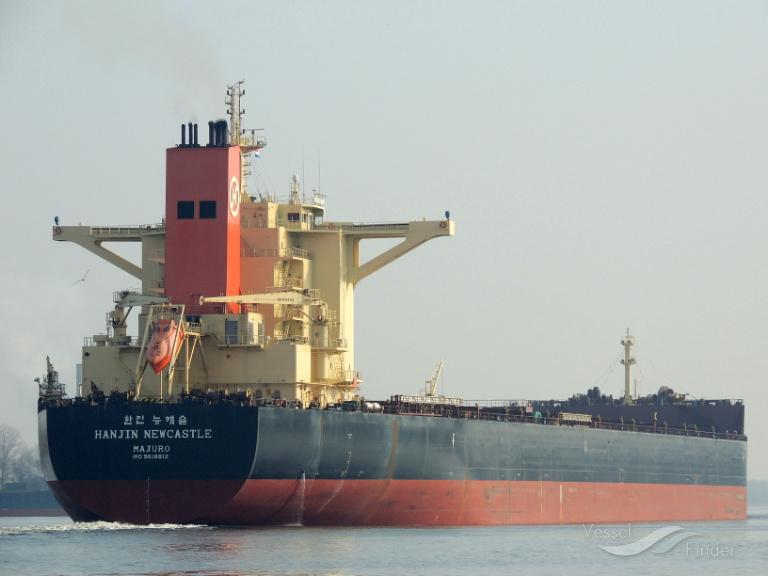OCR: (79, 410, 217, 471)
